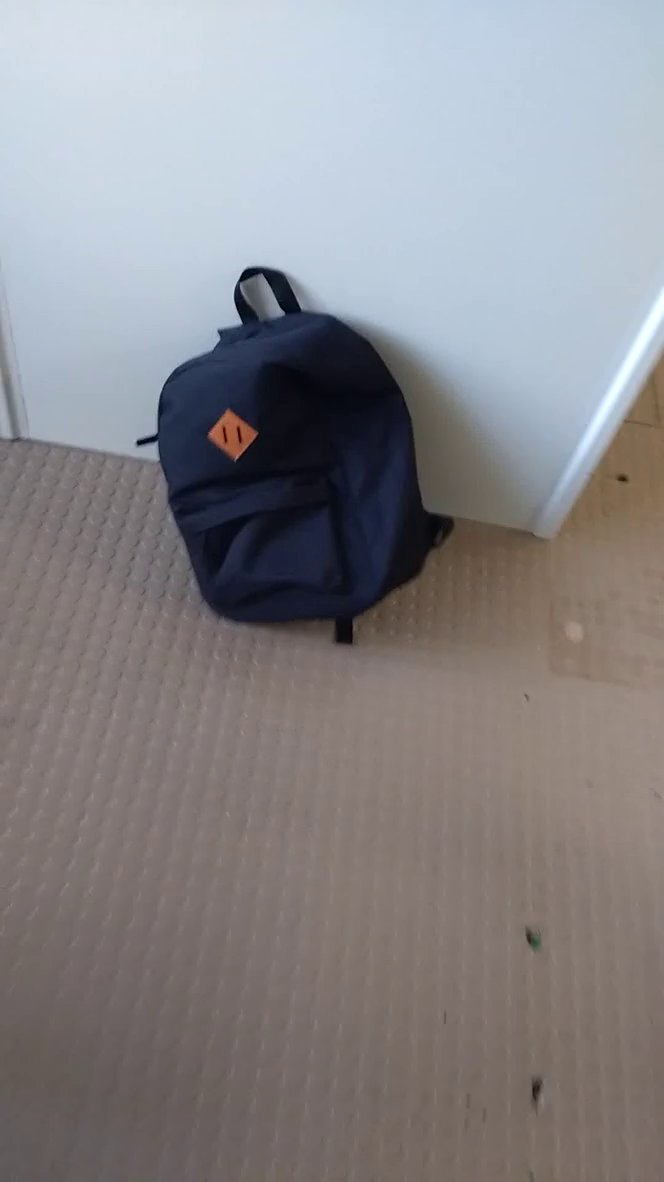bag: (129, 253, 473, 657)
